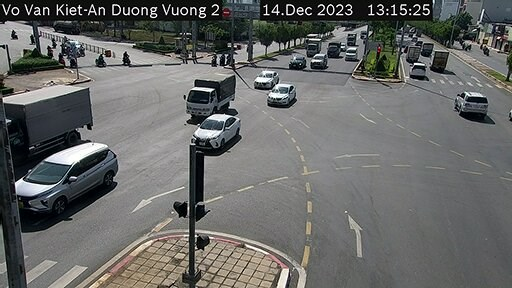car: (19, 148, 123, 210), (193, 114, 241, 152), (267, 78, 303, 108), (454, 91, 488, 116), (255, 65, 275, 95), (411, 64, 428, 82), (290, 55, 308, 71), (309, 54, 326, 69), (349, 47, 361, 66)
truck: (1, 86, 106, 142), (187, 71, 240, 116), (429, 46, 451, 72), (405, 45, 425, 59), (421, 39, 437, 56), (329, 43, 345, 59), (309, 36, 322, 54), (343, 33, 358, 44)
